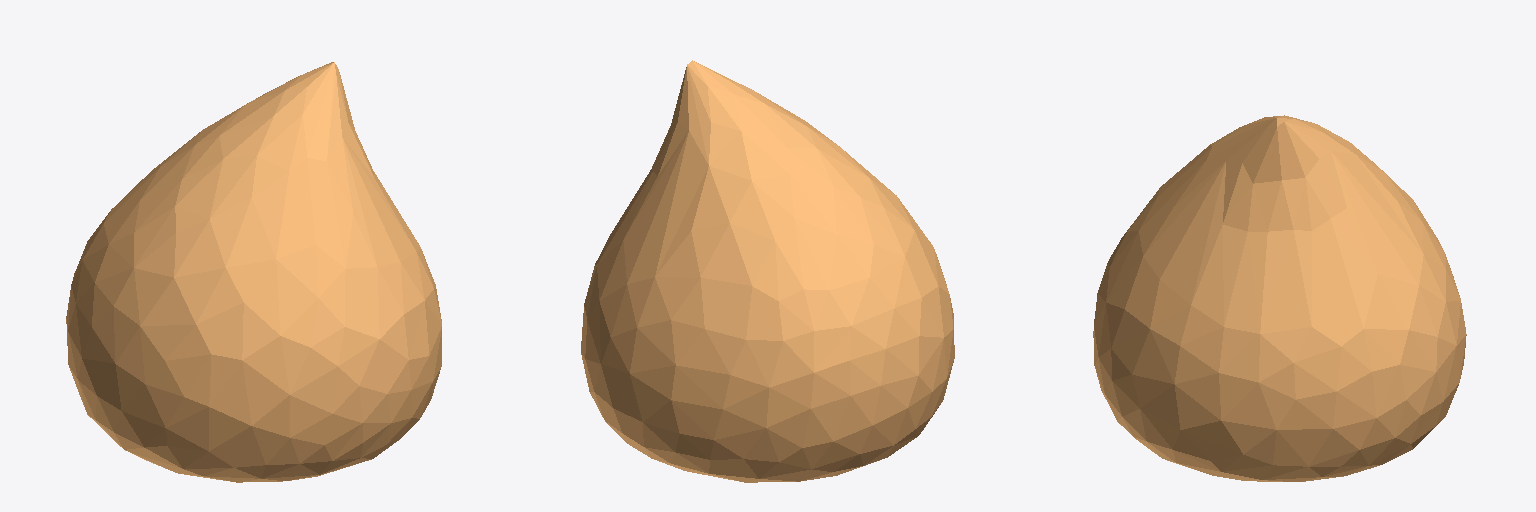
The model's file is Whip_white.obj.
3 views of the same model, side by side, from view 1: azimuth 30°, elevation 25°; view 2: azimuth 150°, elevation 25°; view 3: azimuth 270°, elevation 25° (orthographic).
Parts seen in each view (by area): view 1: Whip_white; view 2: Whip_white; view 3: Whip_white.
Part boxes in pixels (x1,y1,x2,y2): Whip_white: (66,62,441,482); Whip_white: (581,60,954,482); Whip_white: (1093,115,1466,481).
Bounding box in the file's own units: 1.08 × 1.12 × 1.08.